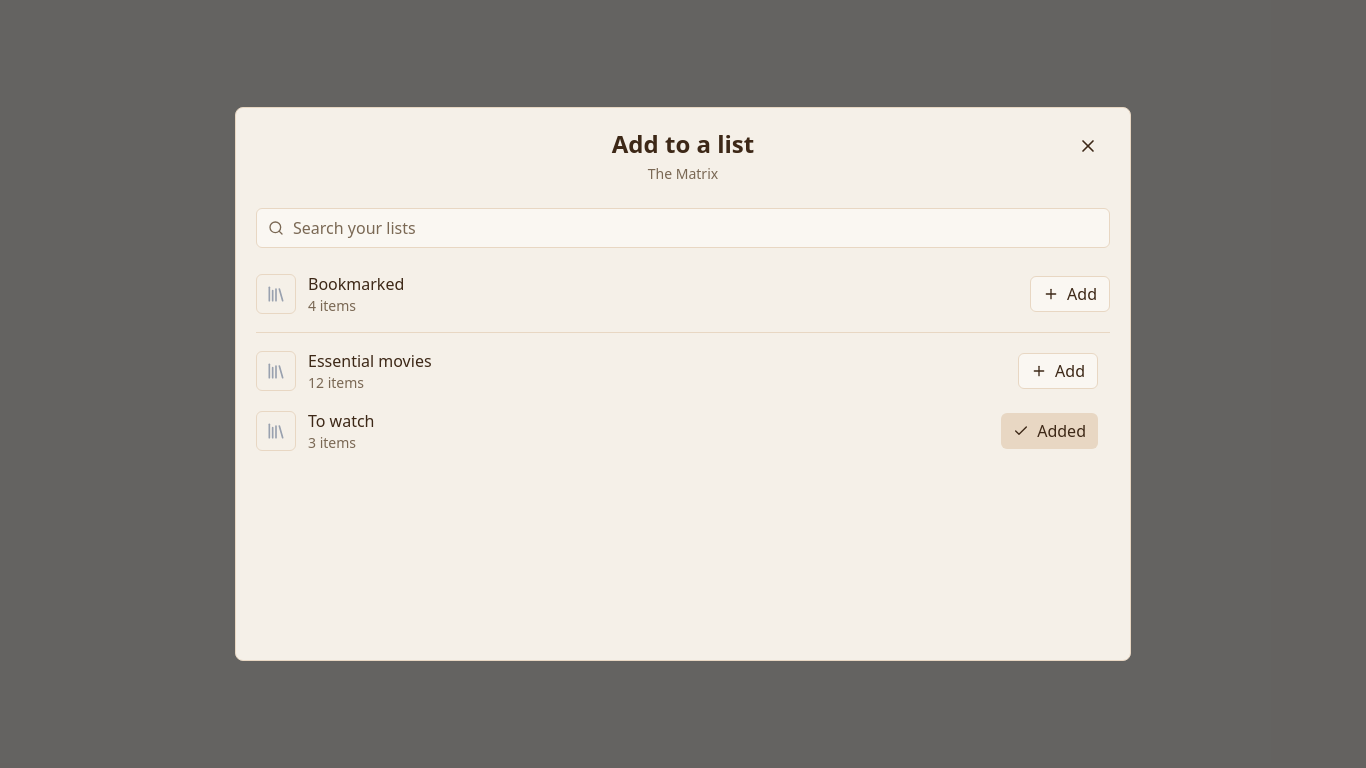
Test: AddToListModal › adds the media to a list with PUT and flips the button
This screenshot has width=1366, height=768.
Expected: the text "Essential movies" is shown, [308,349,432,373]
Click the button with test id "toggle-list1" at (1058, 371), box [1018,353,1098,389]
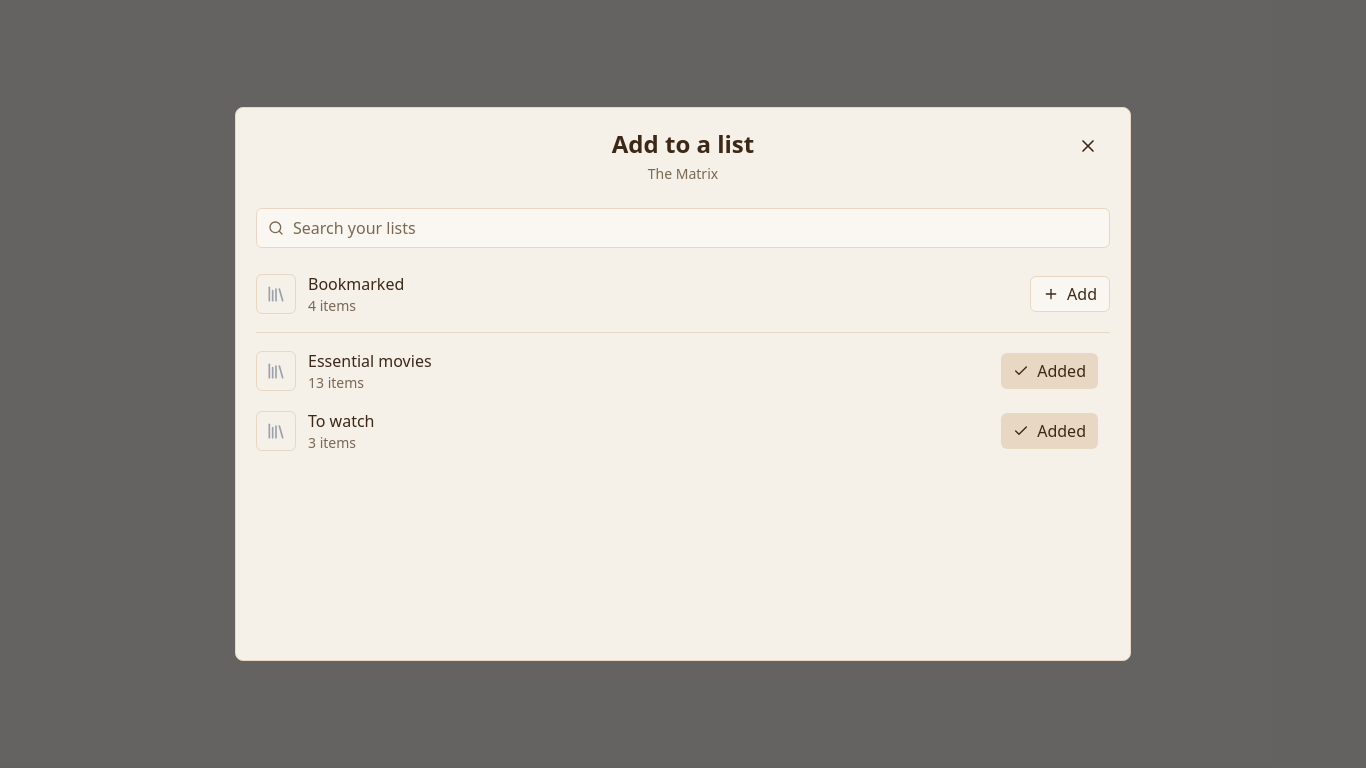
Expected: the button with test id "toggle-list1" reads "Added", [1001,353,1098,389]
Expected: the element with test id "list-row-list1" shows "13 items", [256,349,432,393]
